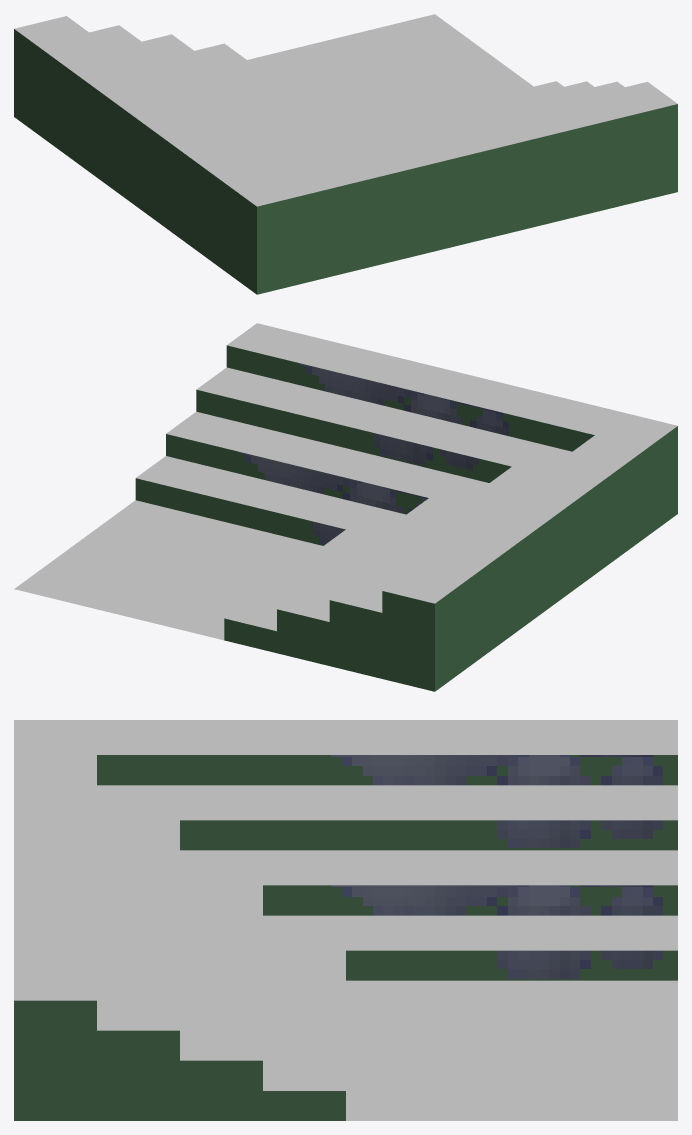
File: floor_stepsCornerInner.dae
The picture shows the model from 3 angles, top to bottom: view 1: azimuth 30°, elevation 25°; view 2: azimuth 150°, elevation 25°; view 3: azimuth 270°, elevation 25°; orthographic projection. The views are drawn at different scales.
Visible parts, largest first — view 1: floor_stepsCornerInner; view 2: floor_stepsCornerInner; view 3: floor_stepsCornerInner.
Boxes of the visible parts, x1,y1,x2,y2 form: floor_stepsCornerInner: (14,14,677,294); floor_stepsCornerInner: (14,323,677,691); floor_stepsCornerInner: (14,720,677,1120).
Size of the model in its own units: 1 by 0.2 by 1.
